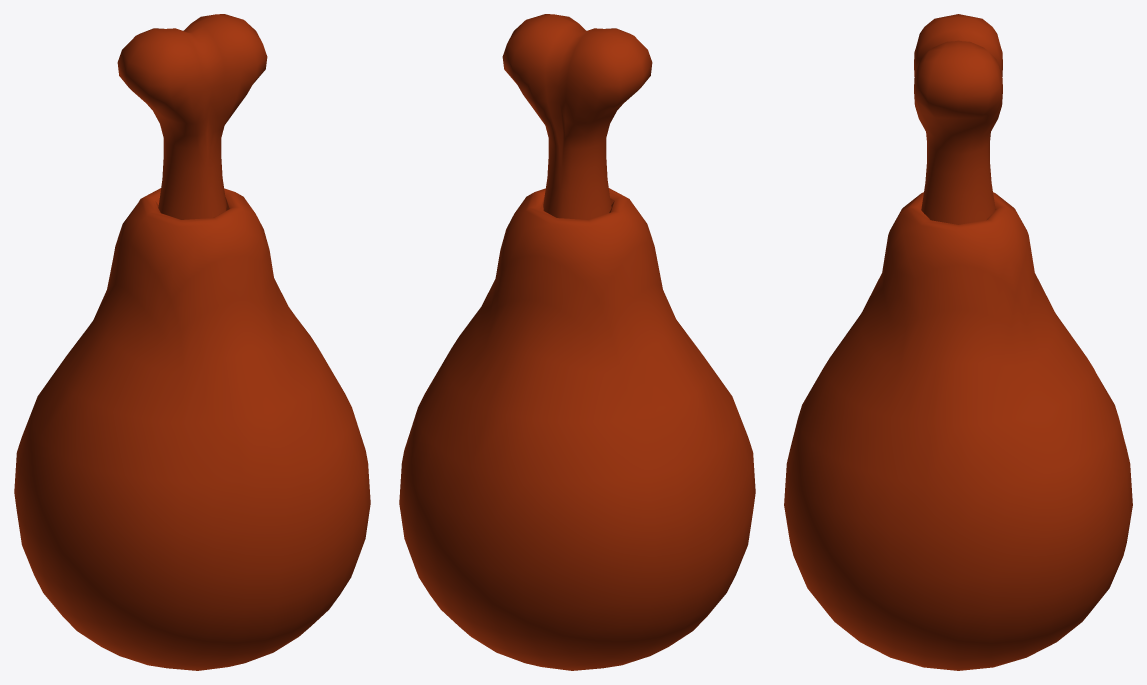
File: FriedLeg01.fbx
The picture shows the model from 3 angles, left to right: view 1: azimuth 30°, elevation 25°; view 2: azimuth 150°, elevation 25°; view 3: azimuth 270°, elevation 25°; orthographic projection.
Parts seen in each view (by area): view 1: ChickenLeg, ChickenLegBone; view 2: ChickenLeg, ChickenLegBone; view 3: ChickenLeg, ChickenLegBone.
Boxes of the visible parts, x1,y1,x2,y2 form: ChickenLeg: [14, 188, 370, 670]; ChickenLegBone: [117, 14, 267, 219]; ChickenLeg: [399, 188, 755, 670]; ChickenLegBone: [502, 14, 652, 219]; ChickenLeg: [784, 192, 1132, 670]; ChickenLegBone: [914, 14, 1002, 224].
Size of the model in its own units: 16.34 by 32.05 by 16.34.
